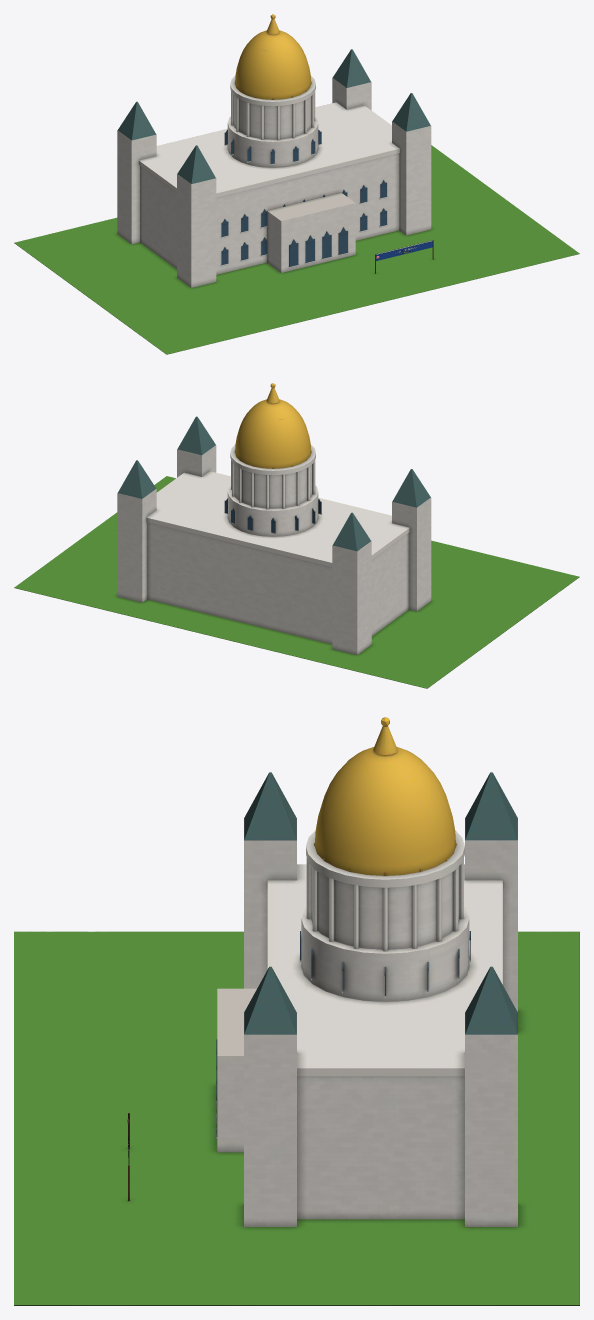
File: capitolio_ct.glb
The picture shows the model from 3 angles, top to bottom: view 1: azimuth 30°, elevation 25°; view 2: azimuth 150°, elevation 25°; view 3: azimuth 270°, elevation 25°; orthographic projection. The views are drawn at different scales.
Parts seen in each view (by area): view 1: capitolio_ct; view 2: capitolio_ct; view 3: capitolio_ct.
Part boxes in pixels (bbox=[...]): capitolio_ct: bbox=[14, 14, 579, 354]; capitolio_ct: bbox=[14, 383, 579, 688]; capitolio_ct: bbox=[14, 717, 579, 1305].
Size of the model in its own units: 100 by 50.15 by 64.
1 material, 1 textured.
